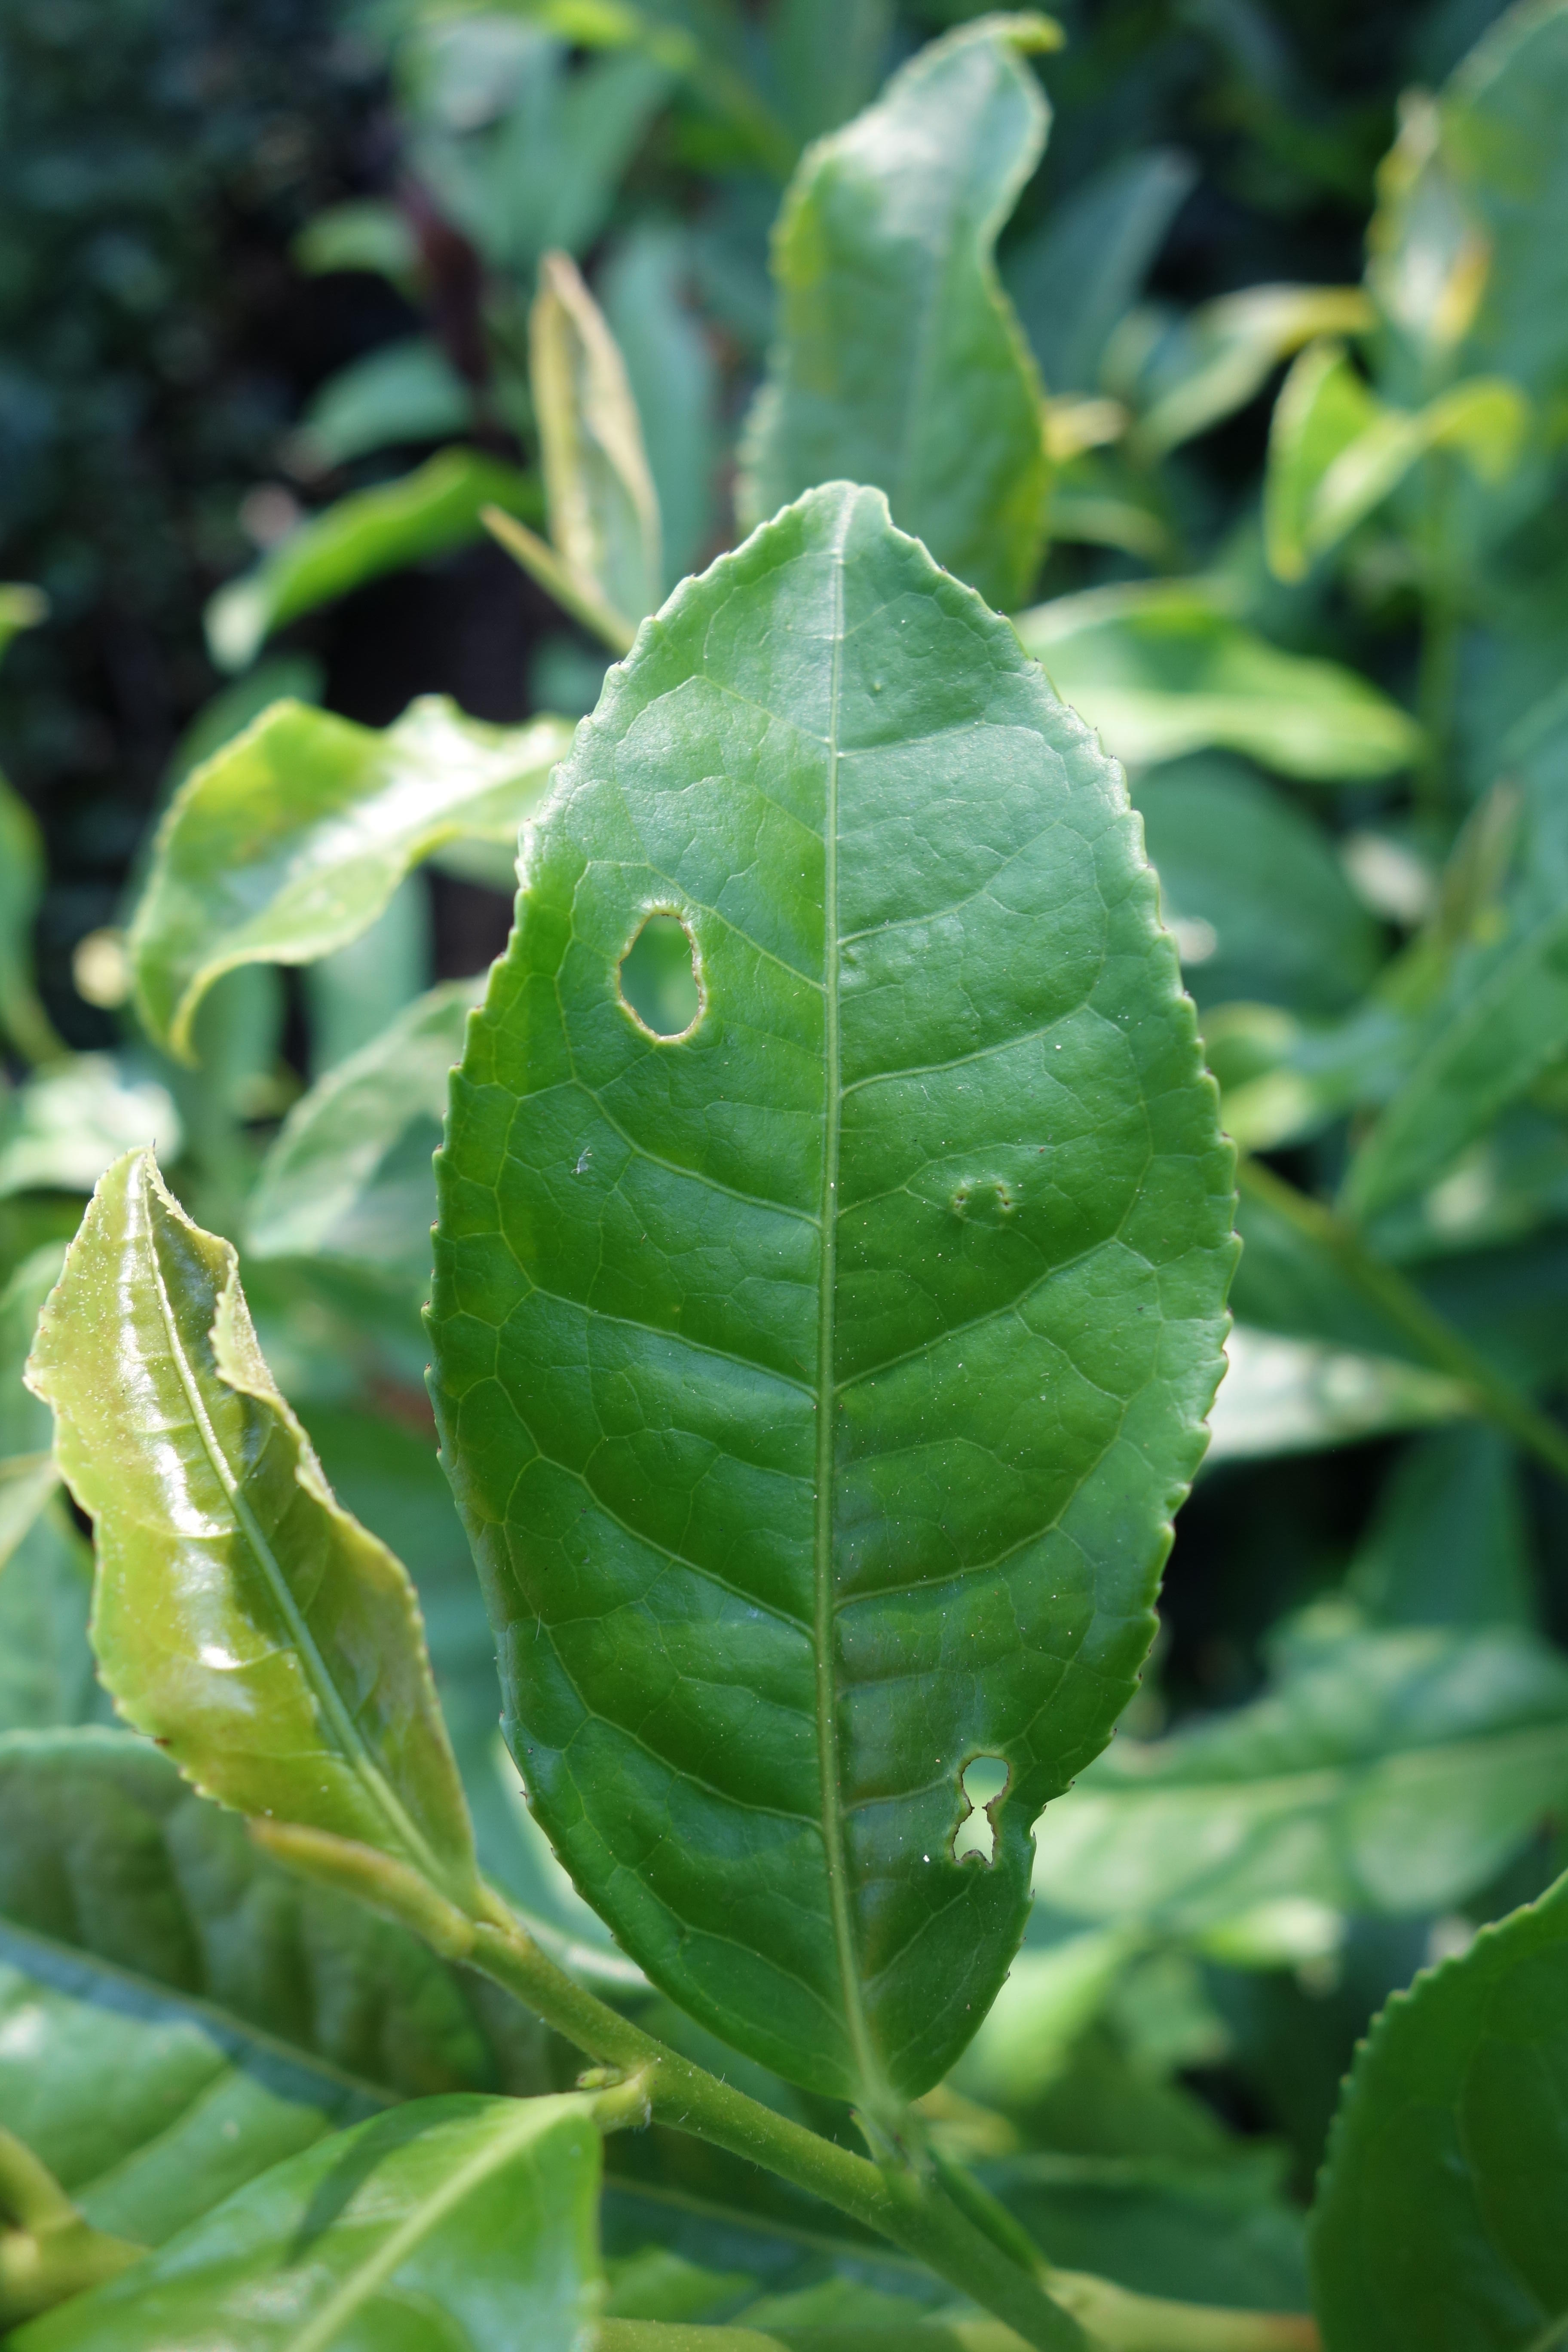chihuo_high: (422, 476, 1251, 2110)
